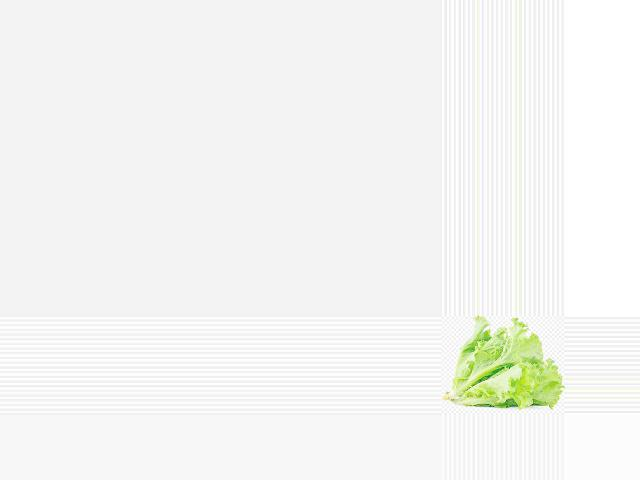lettuce: (441, 316, 562, 406)
